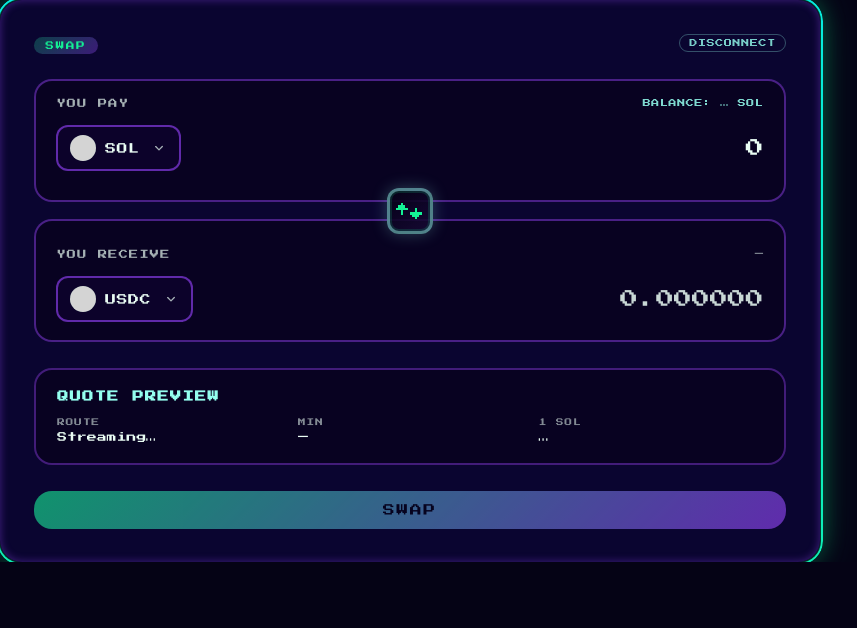
SwapCard › does not open the wallet when route simulation fails
Replace the text in the field named "amount to pay" below "You Pay" with "1". click: (478, 148)
box: [192, 139, 764, 157]
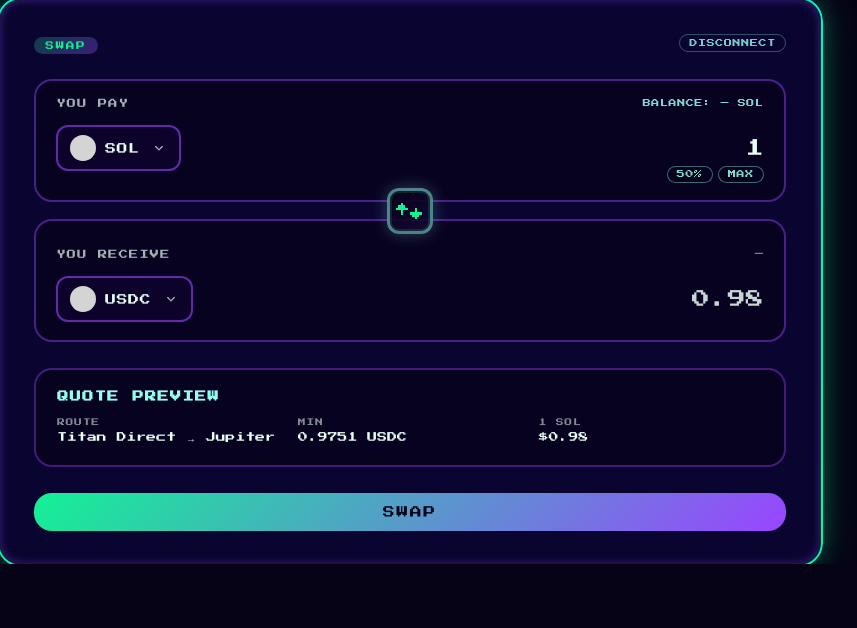
Click the button "Swap". click: click(410, 512)
box: [34, 493, 786, 530]
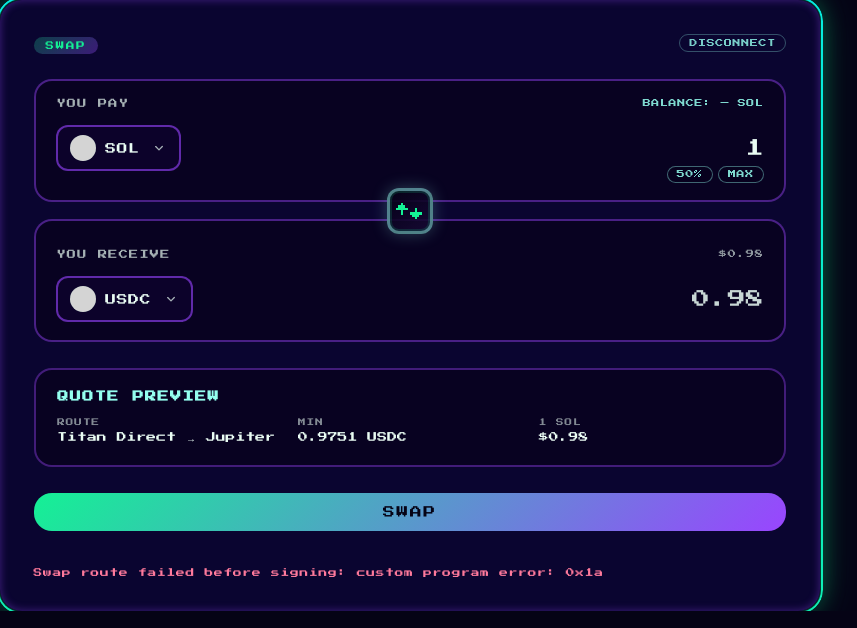
Expected: the text "Swap route failed before signing: custom program error: 0x1a" is shown, [34, 568, 604, 577]
